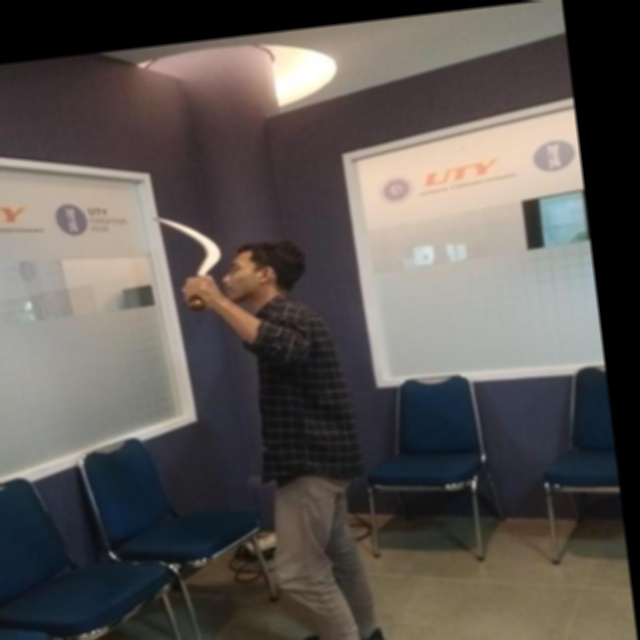Sharp-Object: (154, 205, 232, 305)
